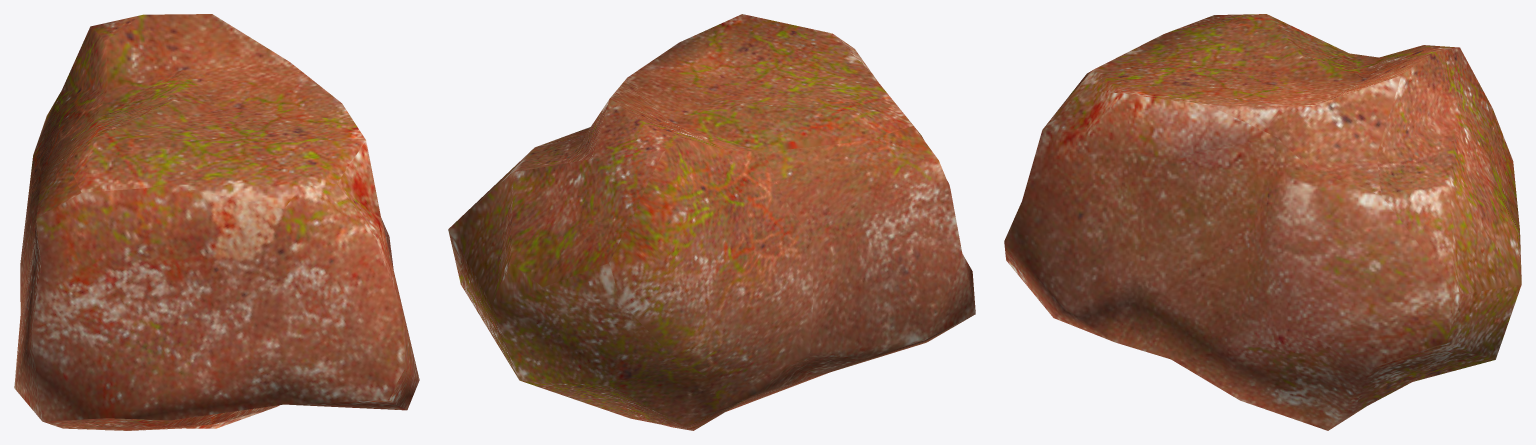
Rendered from piece1.fbx.
3 views of the same model, side by side, from view 1: azimuth 30°, elevation 25°; view 2: azimuth 150°, elevation 25°; view 3: azimuth 270°, elevation 25° (orthographic). The views are drawn at different scales.
Parts seen in each view (by area): view 1: Aset_nature_rock_S_wd3efb0_00_LOD4; view 2: Aset_nature_rock_S_wd3efb0_00_LOD4; view 3: Aset_nature_rock_S_wd3efb0_00_LOD4.
Boxes of the visible parts, <box> form: Aset_nature_rock_S_wd3efb0_00_LOD4: <box>14,14,419,430</box>; Aset_nature_rock_S_wd3efb0_00_LOD4: <box>448,14,975,430</box>; Aset_nature_rock_S_wd3efb0_00_LOD4: <box>1004,14,1521,430</box>.
Bounding box in the file's own units: 76.71 × 64.01 × 85.59.
1 material, 1 textured.
